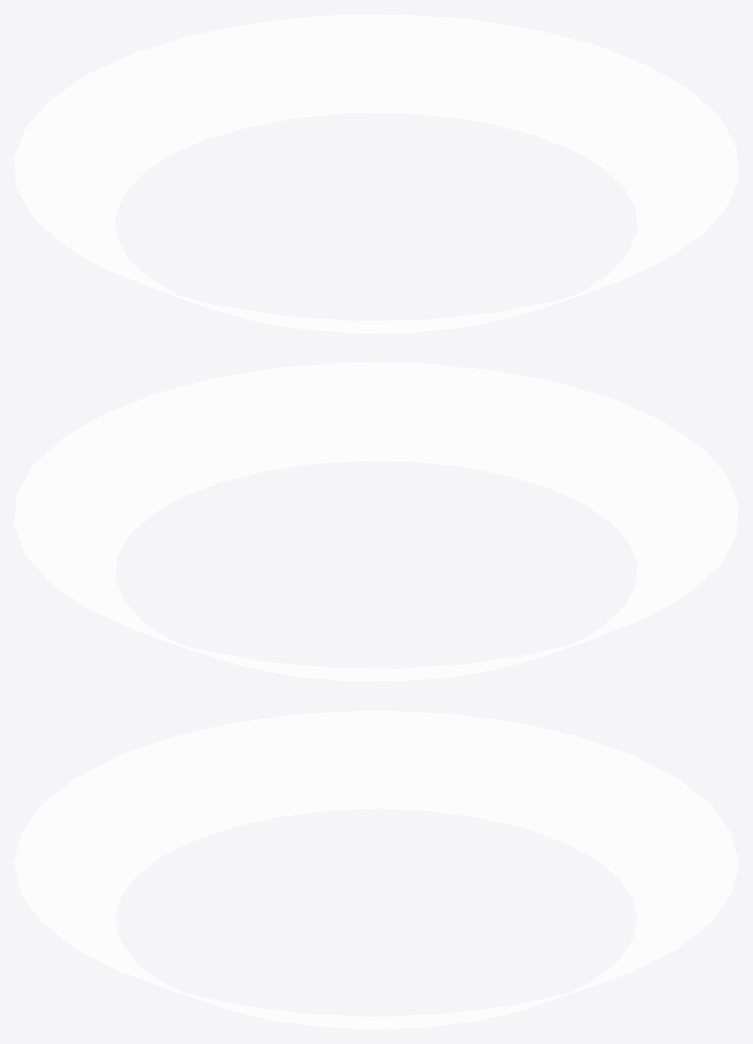
Rendered from vfx_shockwave.glb.
3 renders of one model, top to bottom at view 1: azimuth 30°, elevation 25°; view 2: azimuth 150°, elevation 25°; view 3: azimuth 270°, elevation 25°, orthographic.
Size of the model in its own units: 2 by 0.17 by 2.
